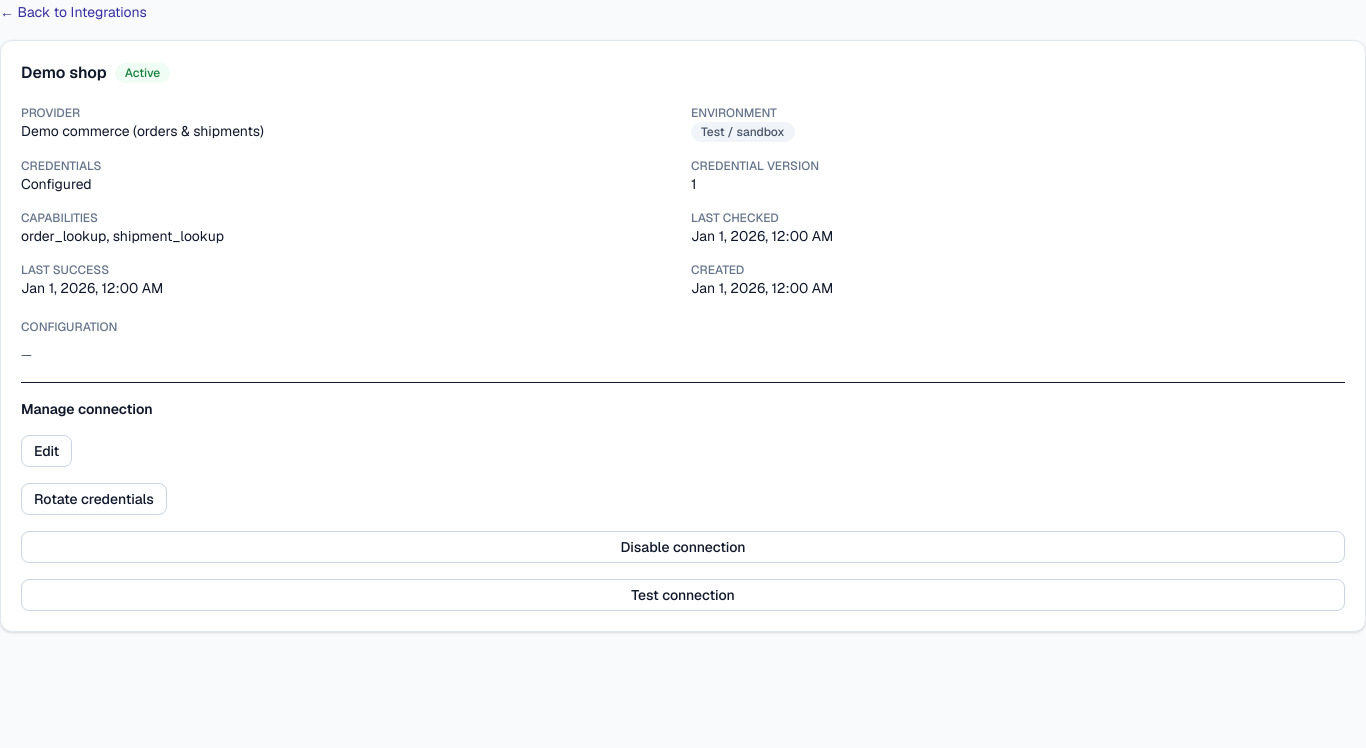
ManageConnectionControls (Phase 22 Chunk 3) › edits display name and configuration for demo_commerce
expect the heading "Demo shop" is shown: met, box [21,61,107,85]
Step 1. Click the button "Edit" → (47, 451), box [21,435,72,467]
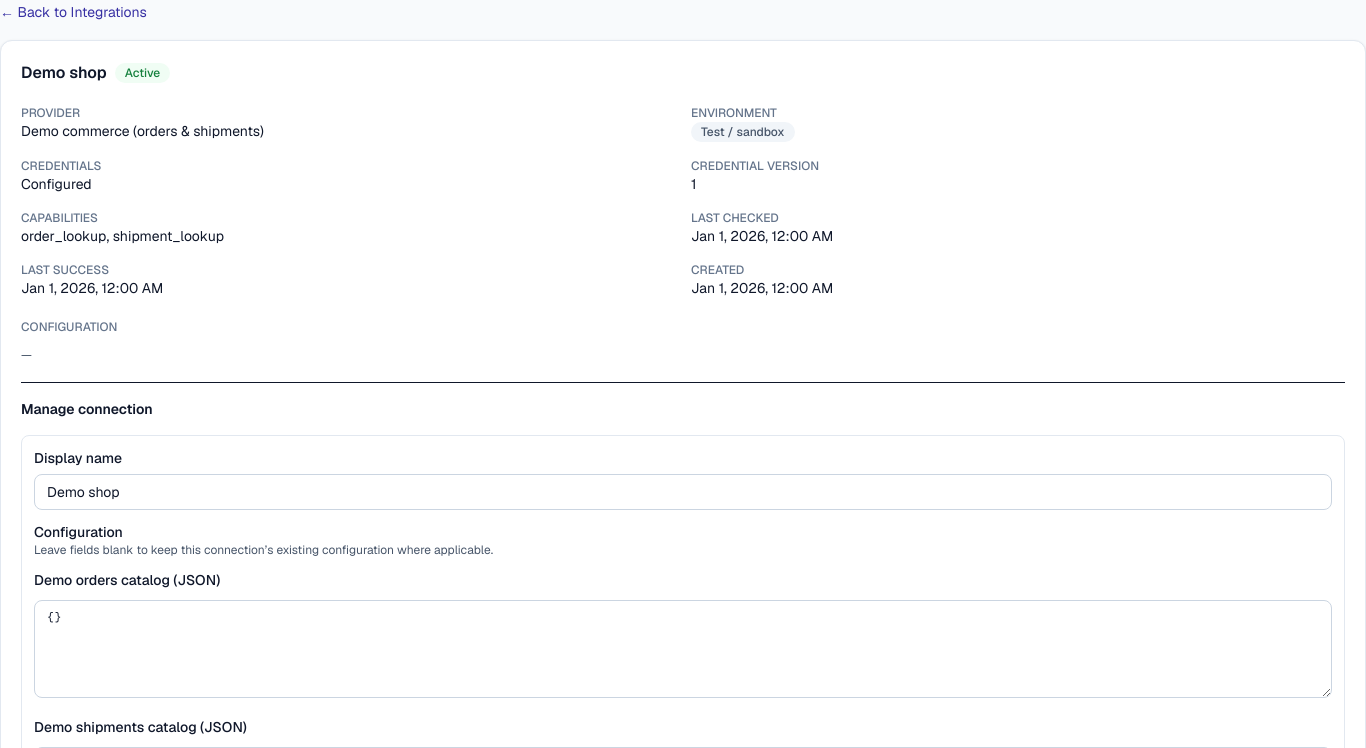
Step 2. Replace the text in the field labelled "Display name" with "Renamed demo shop" → (683, 492), box [34,474,1332,510]
(page scrolled)
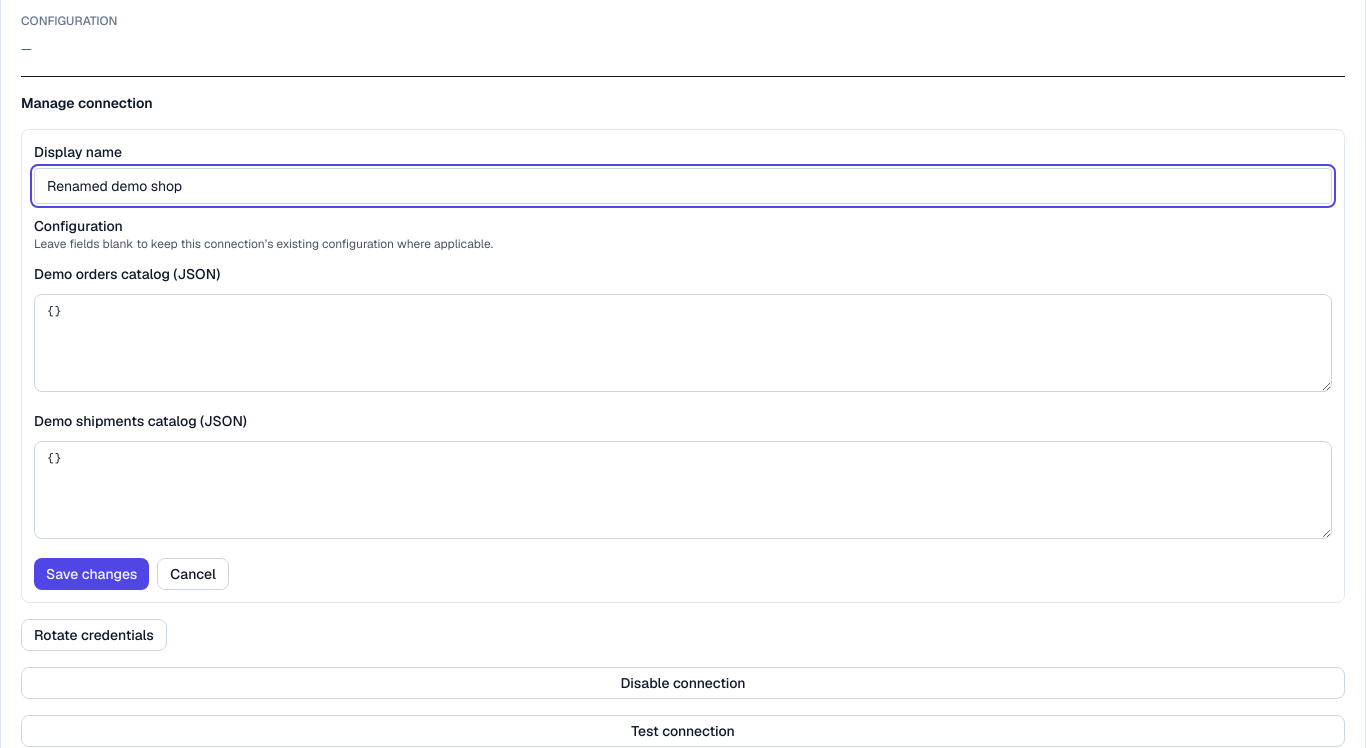
Step 3. Click the button "Save changes" → (92, 574), box [34,558,149,590]
(page scrolled)
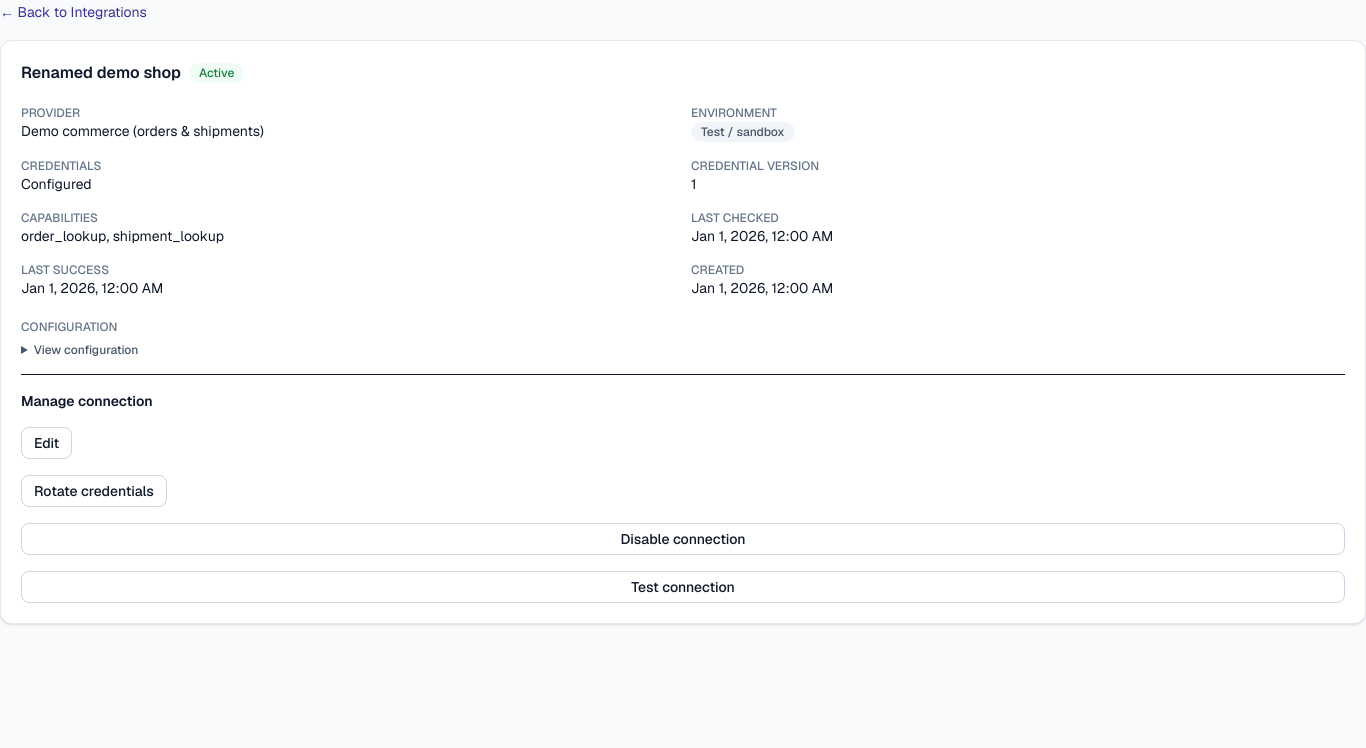
expect the heading "Renamed demo shop" is shown: met, box [21,61,181,85]
